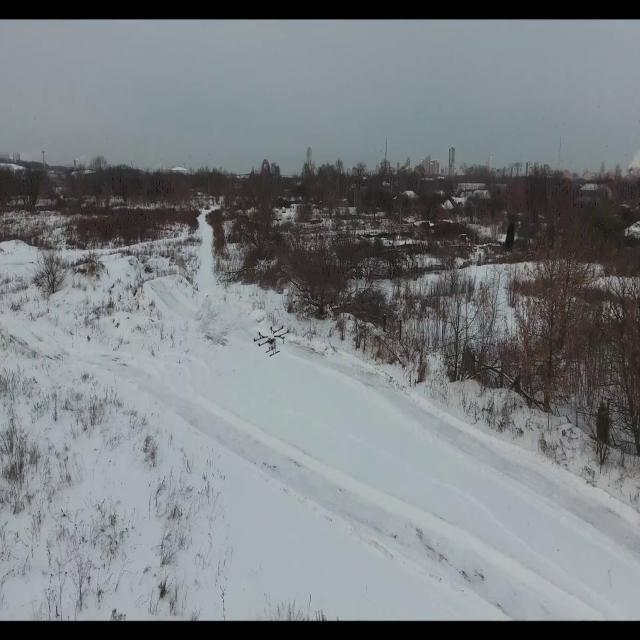Drons: (244, 320, 290, 361)
